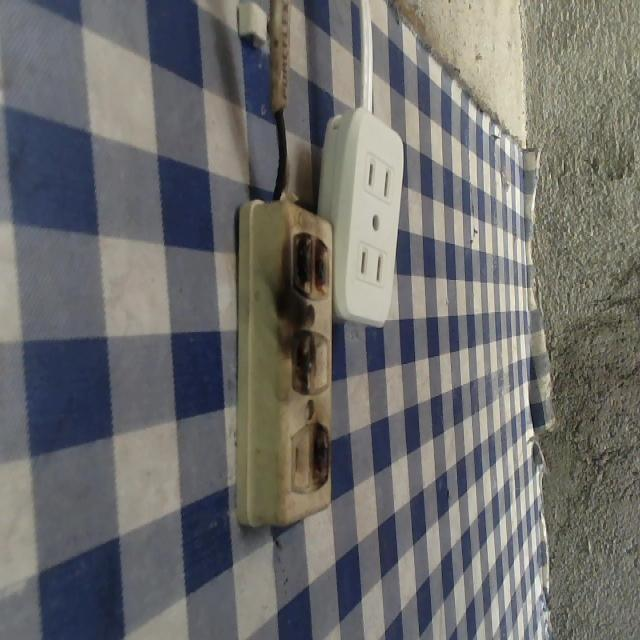-: (280, 227, 337, 301), (281, 321, 315, 399), (307, 420, 336, 488)
